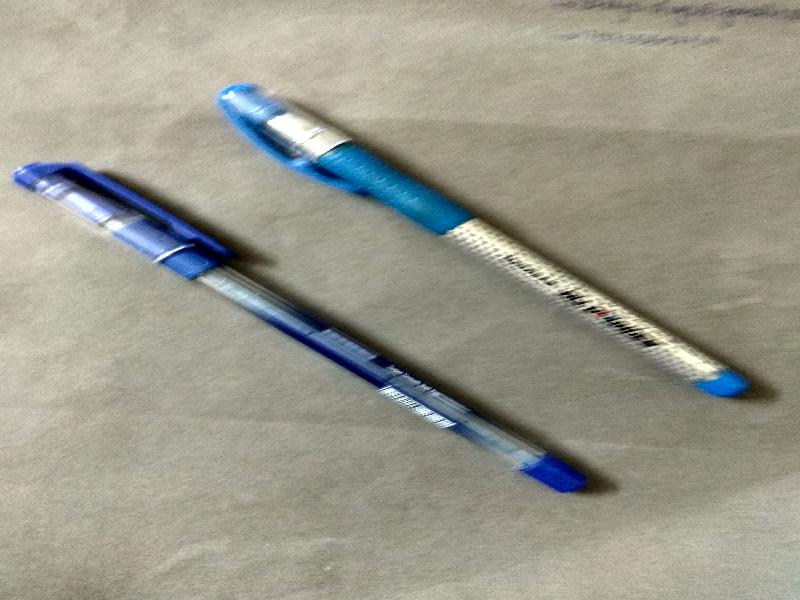pen: (7, 79, 764, 519)
